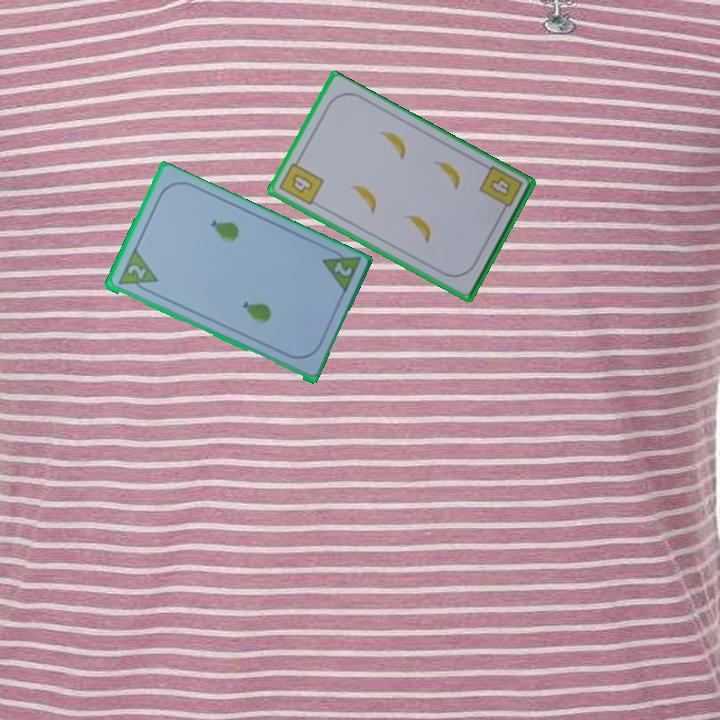2p: (318, 244, 363, 298), (124, 261, 148, 282)
4b: (275, 154, 327, 208), (476, 163, 525, 218)
